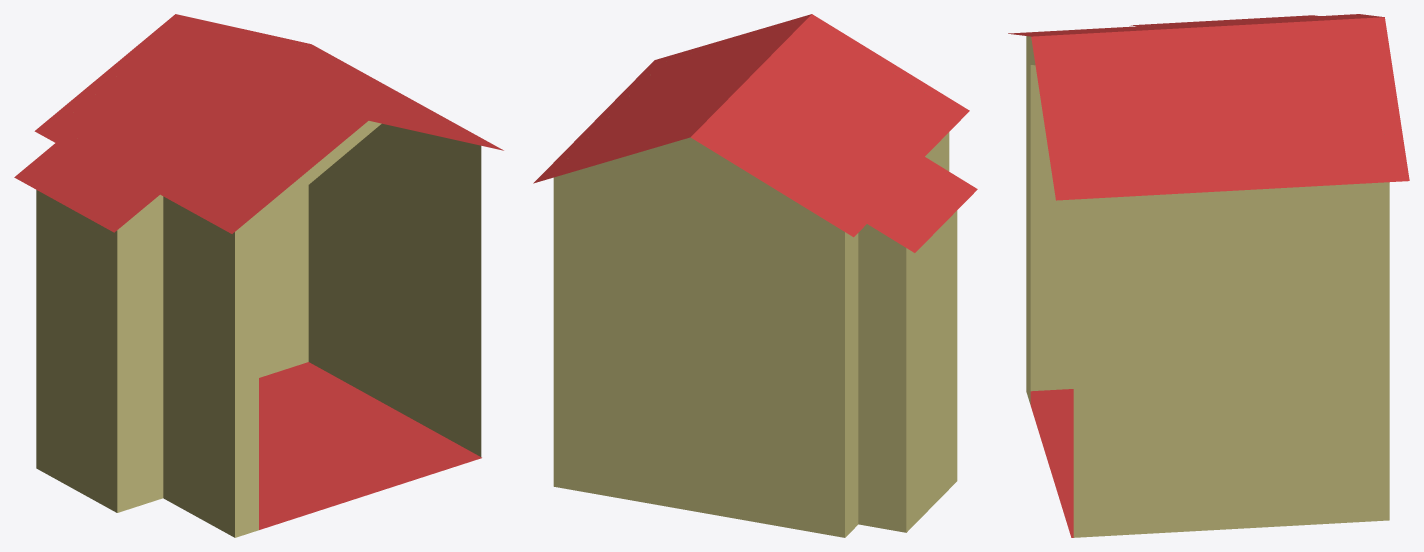
3 renders of one model, left to right at view 1: azimuth 30°, elevation 25°; view 2: azimuth 150°, elevation 25°; view 3: azimuth 270°, elevation 25°, orthographic. The views are drawn at different scales.
Size of the model in its own units: 13.62 by 11.27 by 13.23.
